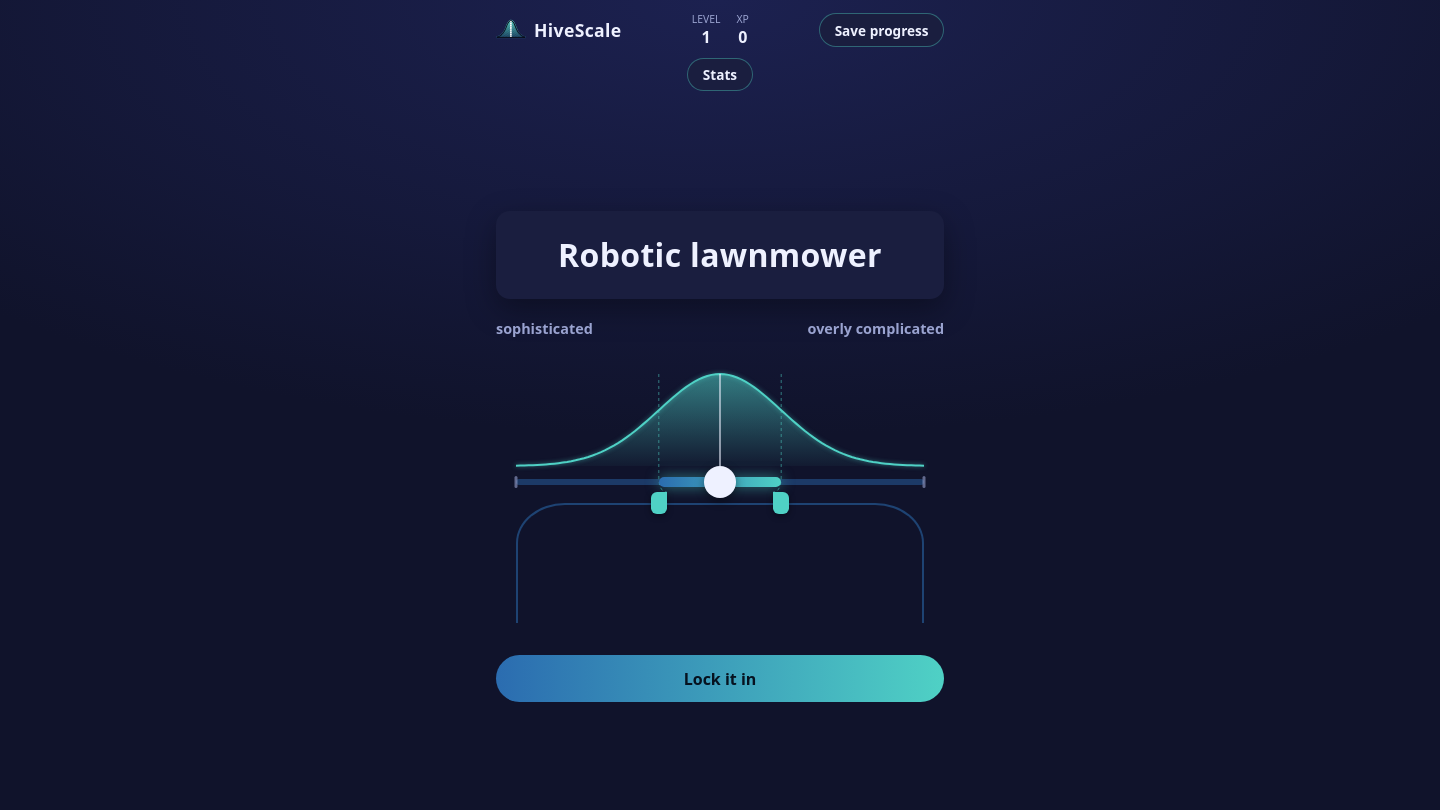
Test case: PlayScreen › recovers from a timed-out round by dealing a fresh one, not a dead 'try again'
Expected: the heading "Robotic lawnmower" is shown, [558,233,882,276]
Click the button "Lock it in". click: (720, 679)
box: [496,655,944,702]
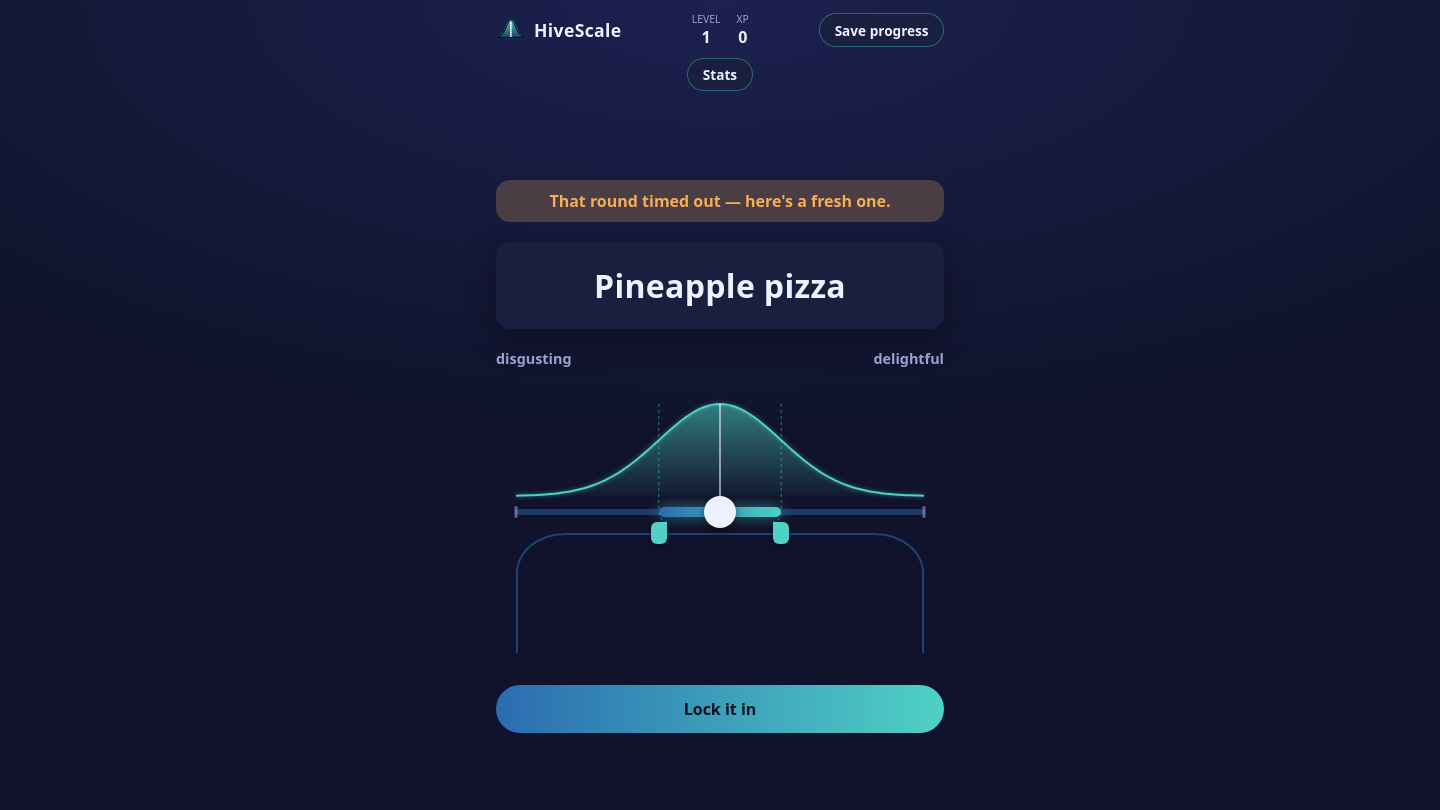
Expected: the heading "Pineapple pizza" is shown, [594,264,846,307]
Expected: the text "That round timed out — here's a fresh one." is shown, [496,180,944,222]
